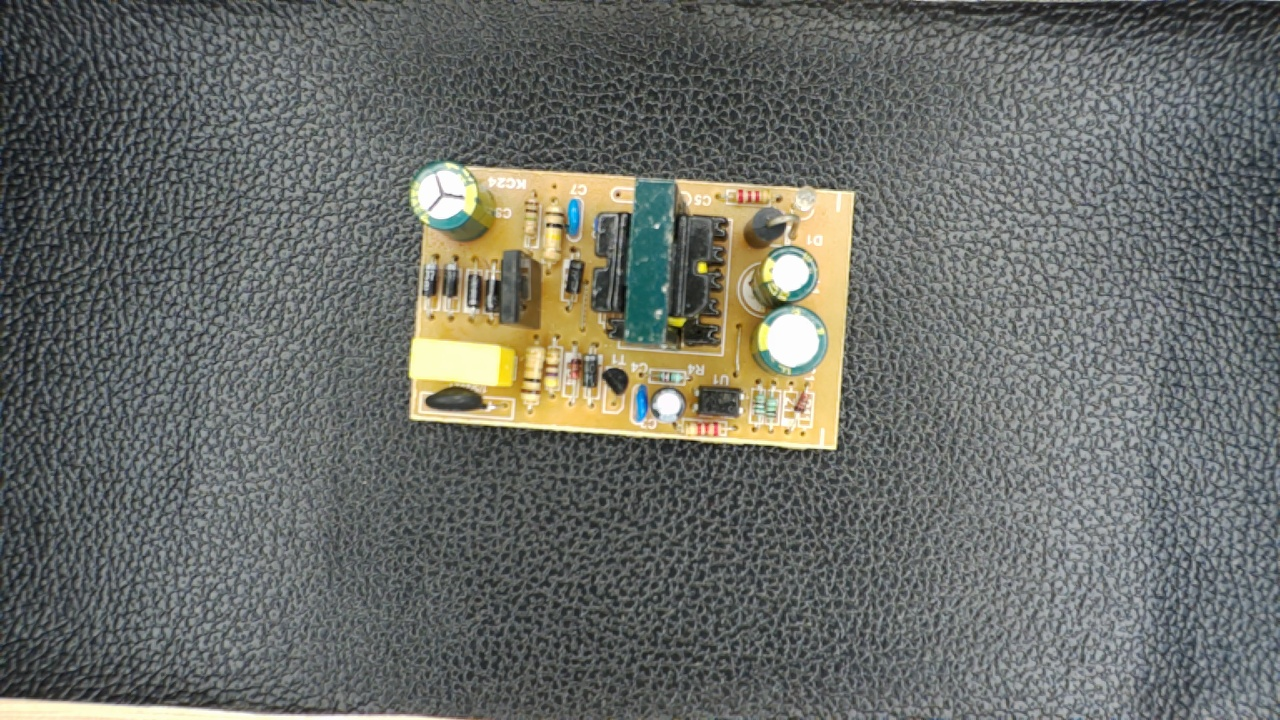fuse: (414, 380, 501, 414)
hv_capacitor: (407, 158, 498, 243)
optocoupler: (686, 378, 747, 425)
